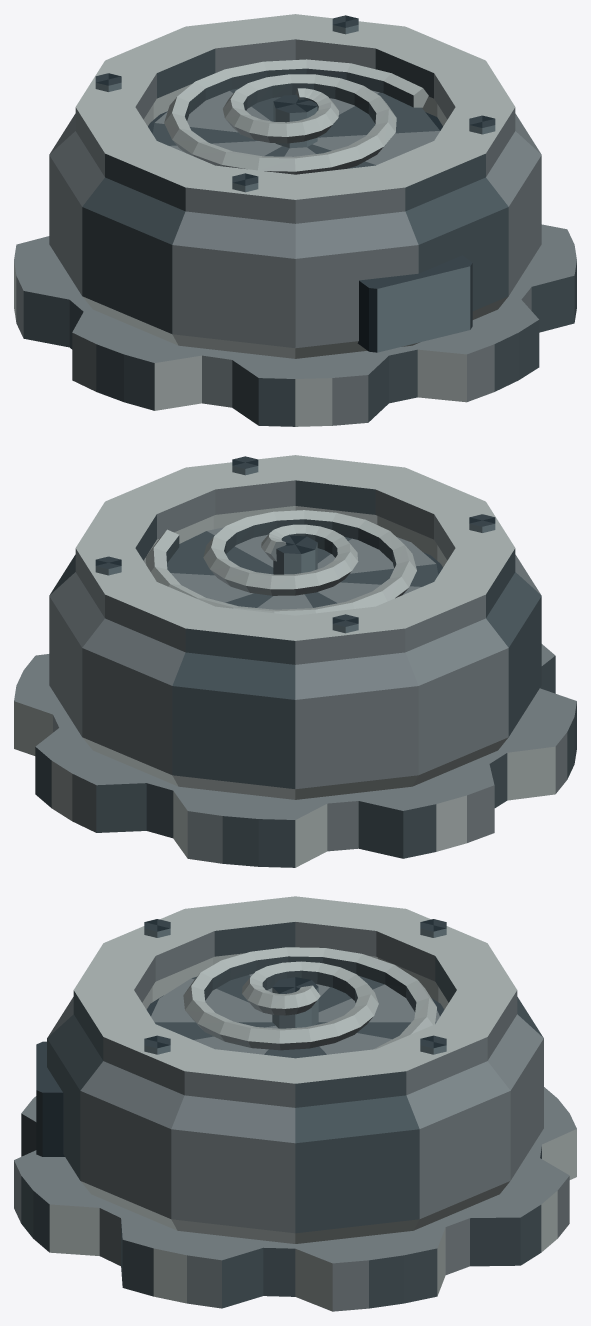
Rendered from stone_extractor.fbx.
3 views of the same model, one above another, from view 1: azimuth 30°, elevation 25°; view 2: azimuth 150°, elevation 25°; view 3: azimuth 270°, elevation 25° (orthographic).
Visible parts, largest first — view 1: stone_extractor_body, stone_extractor_rotor; view 2: stone_extractor_body, stone_extractor_rotor; view 3: stone_extractor_body, stone_extractor_rotor.
Part boxes in pixels (x1,y1,x2,y2): stone_extractor_body: [14, 14, 576, 426]; stone_extractor_rotor: [152, 59, 439, 174]; stone_extractor_body: [14, 455, 576, 867]; stone_extractor_rotor: [145, 510, 438, 615]; stone_extractor_body: [14, 896, 576, 1311]; stone_extractor_rotor: [151, 947, 439, 1058].
Bounding box in the file's own units: 3.17 × 1.32 × 3.17.
1 material, 1 textured.
